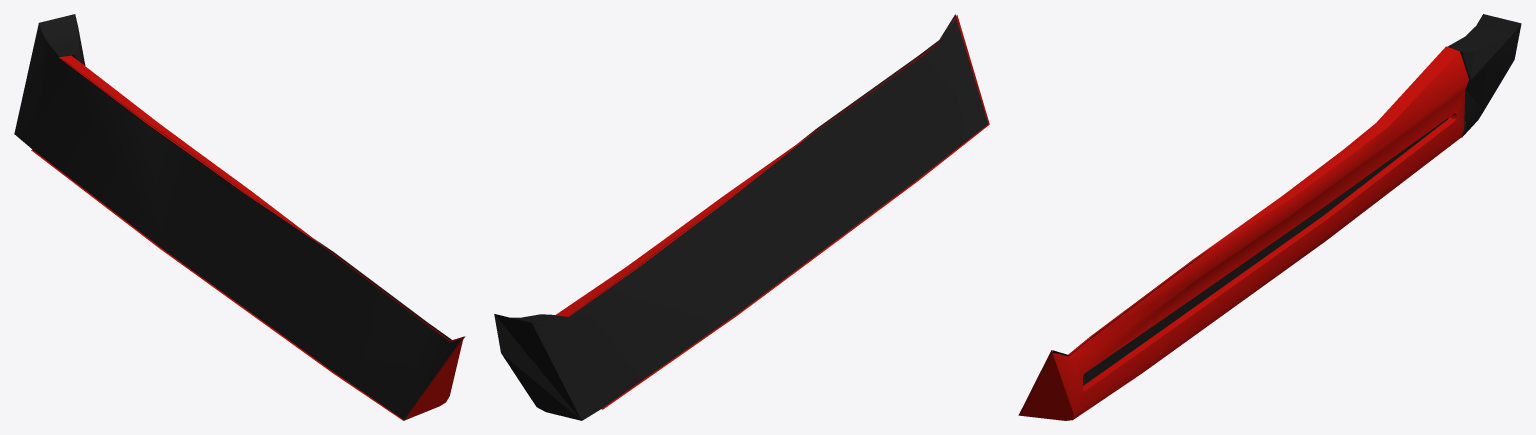
The model's file is Classic_2_Sidepanel_3_L.fbx.
The picture shows the model from 3 angles, left to right: view 1: azimuth 30°, elevation 25°; view 2: azimuth 150°, elevation 25°; view 3: azimuth 330°, elevation 25°; orthographic projection. The views are drawn at different scales.
Parts seen in each view (by area): view 1: Classic_2_Sidepanel_3_L; view 2: Classic_2_Sidepanel_3_L; view 3: Classic_2_Sidepanel_3_L.
Boxes of the visible parts, x1=… form: Classic_2_Sidepanel_3_L: x1=14, y1=14, x2=465, y2=420; Classic_2_Sidepanel_3_L: x1=494, y1=14, x2=989, y2=420; Classic_2_Sidepanel_3_L: x1=1018, y1=14, x2=1521, y2=420.
Bounding box in the file's own units: 31.25 × 40.23 × 303.
